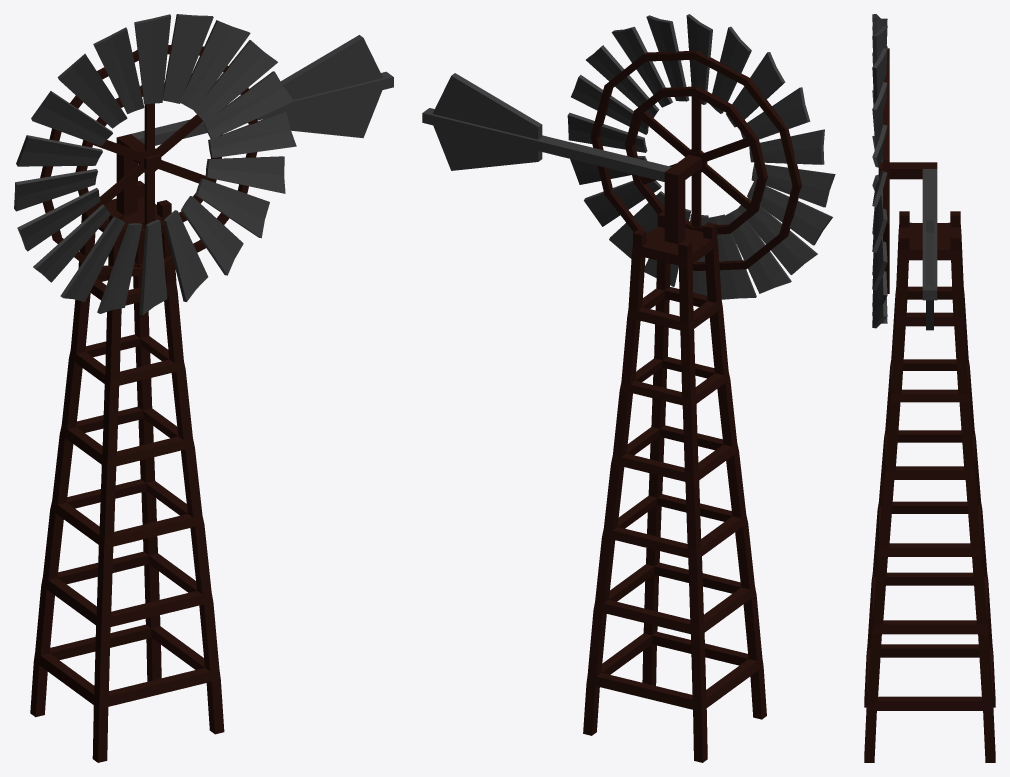
The model's file is Windmill.glb.
The picture shows the model from 3 angles, left to right: view 1: azimuth 30°, elevation 25°; view 2: azimuth 150°, elevation 25°; view 3: azimuth 270°, elevation 25°; orthographic projection. The views are drawn at different scales.
Visible parts, largest first — view 1: world; view 2: world; view 3: world.
Boxes of the visible parts, left/top/right/bottom form: world: left=14, top=14, right=393, bottom=762; world: left=422, top=14, right=835, bottom=762; world: left=864, top=14, right=995, bottom=762.
Bounding box in the file's own units: 6.51 × 11.2 × 1.9.
Materials: 1 (1 with a texture image).
